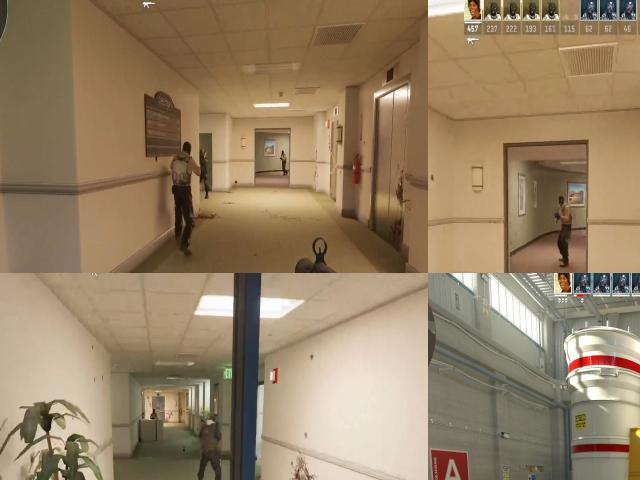CT: (194, 412, 224, 470), (200, 147, 211, 190)
CT-Head: (203, 414, 219, 432), (200, 145, 207, 157)
T: (172, 144, 195, 198), (553, 194, 572, 240), (280, 148, 286, 172)
T-Head: (179, 140, 194, 160), (555, 195, 567, 212)
